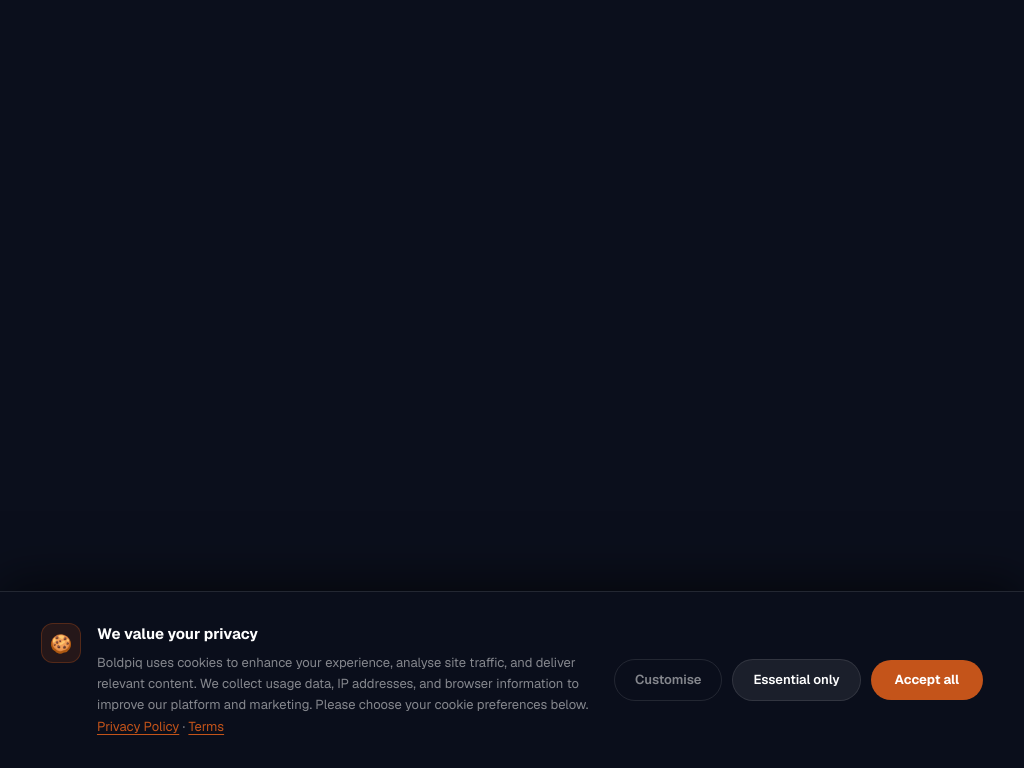
it: CookieConsent › Customise panel › renders essential cookies as locked
The width and height of the screenshot is (1024, 768).
Click the button "Customise": coordinates (668, 680) [614, 659, 722, 701]
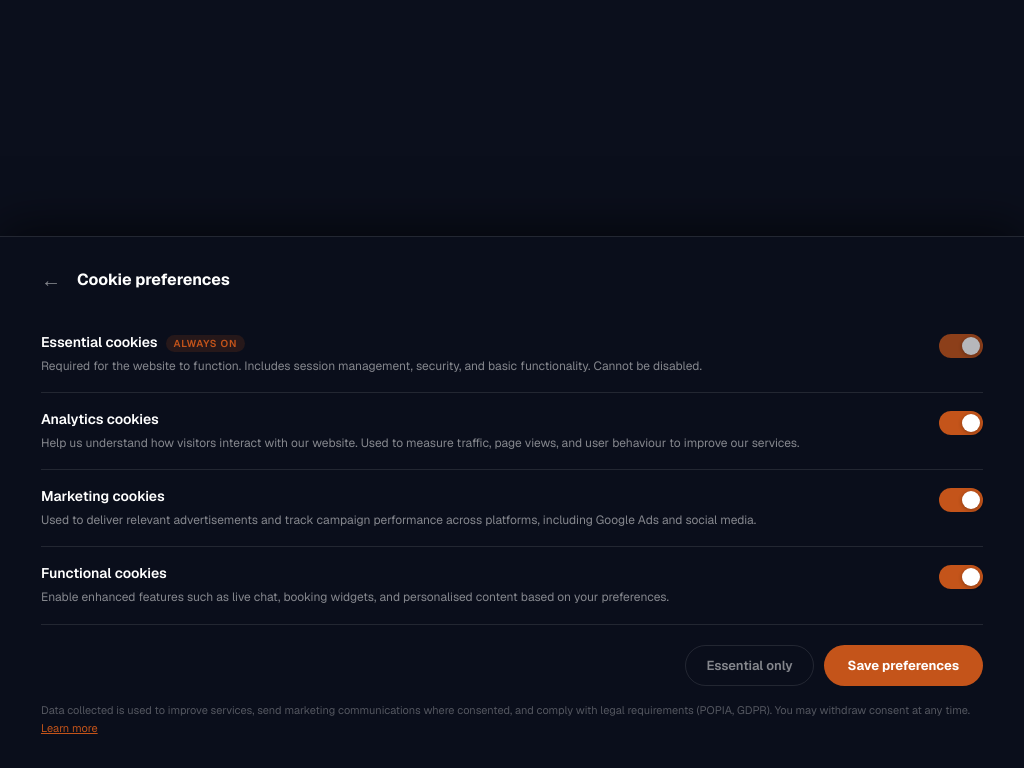
Now the text "Always on" is shown, box [166, 335, 245, 352]
